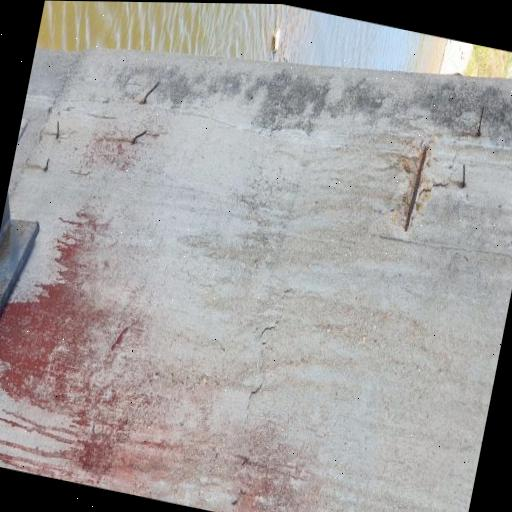exposed_rebar: (405, 147, 428, 231)
